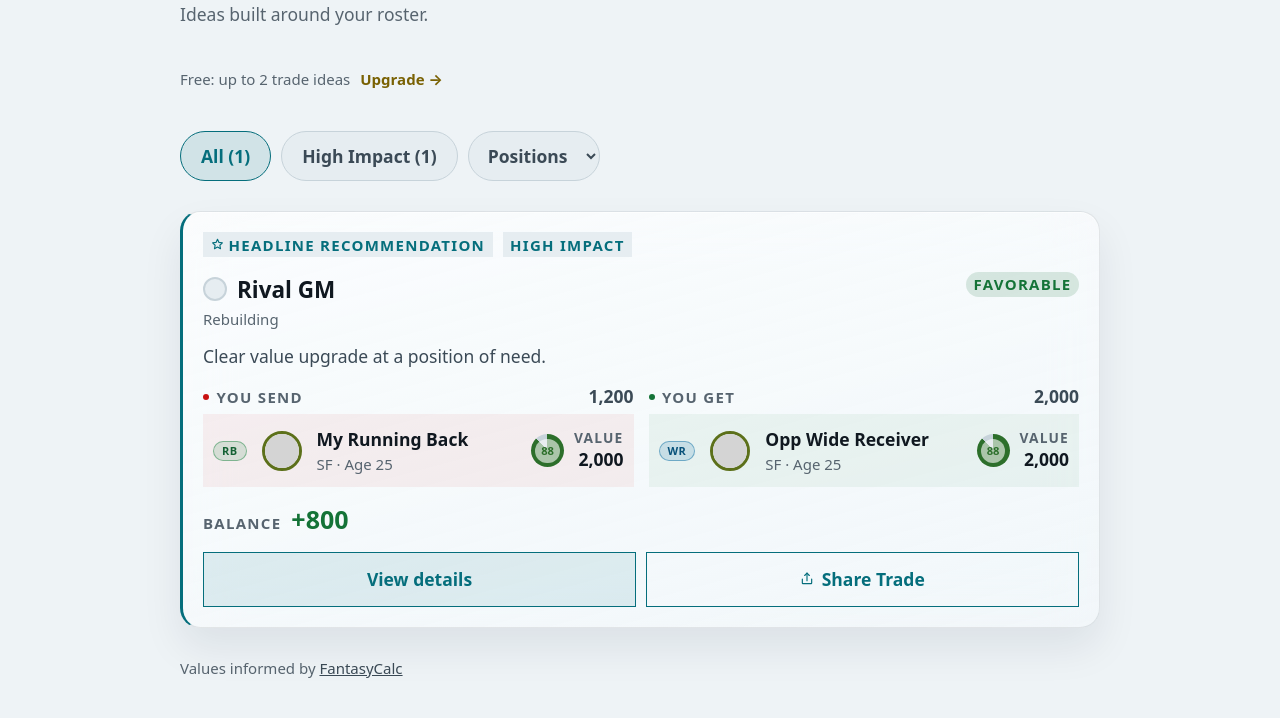
Test: TradeHubContent › reveals the full rationale and confidence/realism meters only after View details is clicked
(page scrolled)
Click the button "View details": point(420, 580) 203,552 -> 636,607
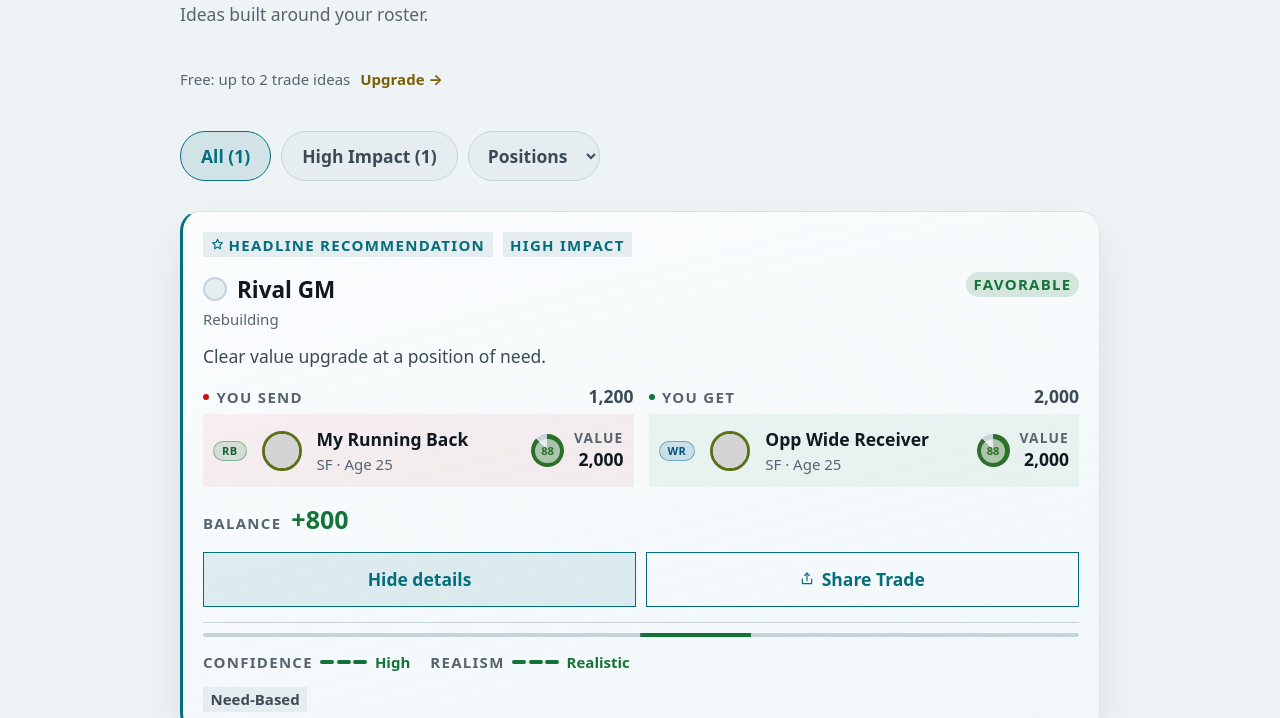
Result: the picture named "Confidence: High" is shown at 203,652 -> 410,672
Result: the picture named "Realism: Realistic" is shown at 430,652 -> 630,672
